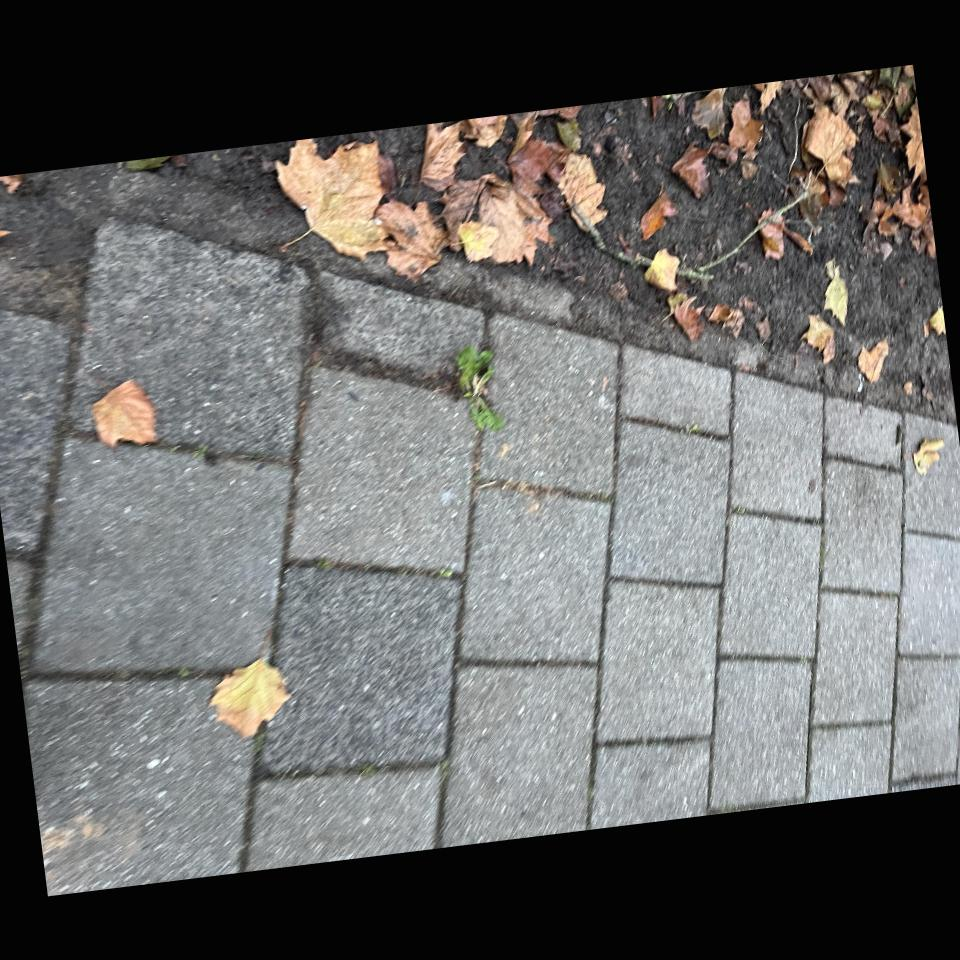weed: (450, 351, 496, 427)
